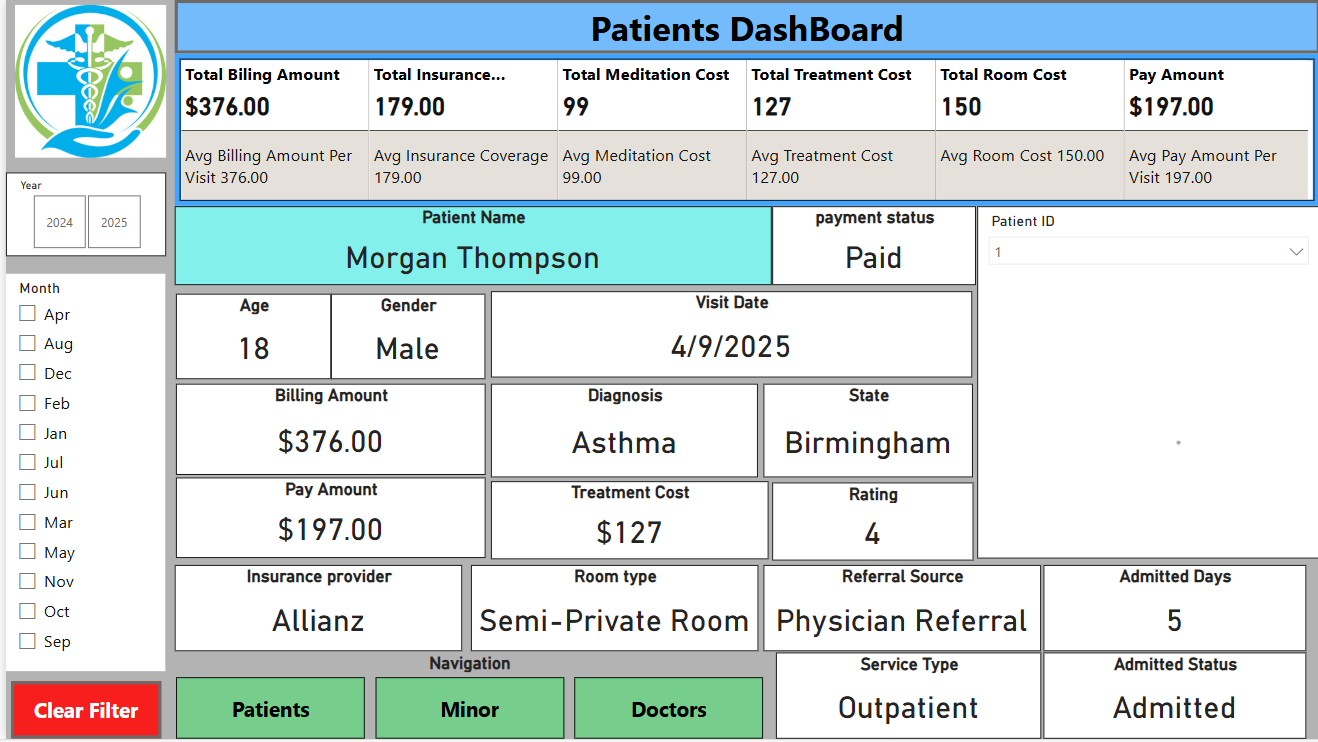

What the dashboard file says about the page in this screenshot:
{"tool":"powerbi","page":{"name":"Patients_details","canvas":[1280,720],"ordinal":3},"visuals":[{"type":"cardVisual","fields":{"Data":["Measure Calculation.TotalBilingAmount","Measure Calculation.TotalInsuranceCovered","Measure Calculation.TotalMeditationCost","Measure Calculation.TotalTreatmentCost","Measure Calculation.totalroomcost","Measure Calculation.Pay_Amount"]},"box":[164.4,52.1,1115.6,148.2],"z":0},{"type":"image","box":[0,0,165,158.8],"z":1000},{"type":"slicer","fields":{"Values":["Calender.Date.Variation.Date Hierarchy.Year"]},"box":[0,168.6,155.7,81.4],"z":2000},{"type":"slicer","fields":{"Values":["Calender.Short Month Name"]},"box":[0,266.3,154.9,387.4],"z":3000},{"type":"actionButton","box":[164.4,0,1115.6,52.1],"z":4000},{"type":"actionButton","box":[4.8,664.3,146.5,55.7],"z":5000},{"type":"slicer","fields":{"Values":["patients.Patient ID"]},"box":[945.7,201.4,334.3,342.9],"z":6000},{"type":"card","title":"Patient Name","fields":{"Values":["patients.Patient_Name"]},"box":[164.3,201.4,581.4,77.1],"z":7000},{"type":"card","title":"Room type","fields":{"Values":["Patients_details.patient_roomtype"]},"box":[452.9,550,280,84.3],"z":8000},{"type":"card","title":"Age","fields":{"Values":["Sum(patients.Age)"]},"box":[165.7,285.7,151.4,82.9],"z":9000},{"type":"card","title":"payment status","fields":{"Values":["Patients_details.patient_payment_status"]},"box":[747.1,201.4,198.6,77.1],"z":10000},{"type":"card","title":"Service Type","fields":{"Values":["Patients_details.patient_servicetype"]},"box":[750,635.7,258.6,84.3],"z":11000},{"type":"card","title":"Diagnosis","fields":{"Values":["Patients_details.patients_diagnosis"]},"box":[472.9,374.3,260,91.4],"z":12000},{"type":"card","title":"Admitted Status","fields":{"Values":["Min(visit.Admission Status)"]},"box":[1011.4,635.7,255.7,84.3],"z":13000},{"type":"card","title":"Referral Source","fields":{"Values":["Min(visit.Referral Source)"]},"box":[738.6,550,270,84.3],"z":14000},{"type":"card","title":"Insurance  provider","fields":{"Values":["Min(insurance.Insurance Provider)"]},"box":[164.3,550,280,84.3],"z":15000},{"type":"card","title":"Admitted Days","fields":{"Values":["Sum(visit.admitted Days)"]},"box":[1011.4,550,255.7,84.3],"z":16000},{"type":"card","title":"Pay Amount","fields":{"Values":["Measure Calculation.Pay_Amount"]},"box":[165.7,465.7,301.4,78.6],"z":17000},{"type":"card","title":"Billing Amount","fields":{"Values":["Measure Calculation.TotalBilingAmount"]},"box":[165.7,374.3,301.4,88.6],"z":18000},{"type":"card","title":"Rating","fields":{"Values":["Sum(patients.Rating)"]},"box":[747.1,470,195.7,75.7],"z":19000},{"type":"card","title":"State","fields":{"Values":["Min(cities.City)"]},"box":[738.6,374.3,204.3,91.4],"z":20000},{"type":"card","title":"Gender","fields":{"Values":["Min(patients.Gender)"]},"box":[317.1,285.7,150,82.9],"z":21000},{"type":"pageNavigator","title":"Navigation","box":[165.7,635.7,572.9,84.3],"z":22000},{"type":"card","title":"Treatment Cost","fields":{"Values":["Sum(visit.Treatment Cost)"]},"box":[472.9,468.6,270,75.7],"z":23000},{"type":"card","title":"Visit Date","fields":{"Values":["Min(visit.Date of Visit)"]},"box":[472.9,284.3,468.6,84.3],"z":24000}]}

Visuals, with their boxes in screenshot pixels (x1, y1, x2, y2), scaled from the page's 1280x720 canvas onto the 1318x742 screenshot:
cardVisual - Measure Calculation.TotalBilingAmount x Measure Calculation.TotalInsuranceCovered: {"left": 169, "top": 54, "right": 1317, "bottom": 206}
image: {"left": 0, "top": 0, "right": 170, "bottom": 164}
slicer - Calender.Date.Variation.Date Hierarchy.Year: {"left": 0, "top": 174, "right": 160, "bottom": 258}
slicer - Calender.Short Month Name: {"left": 0, "top": 274, "right": 159, "bottom": 674}
actionButton: {"left": 169, "top": 0, "right": 1317, "bottom": 54}
actionButton: {"left": 5, "top": 685, "right": 156, "bottom": 741}
slicer - patients.Patient ID: {"left": 974, "top": 208, "right": 1317, "bottom": 561}
"Patient Name" card: {"left": 169, "top": 208, "right": 768, "bottom": 287}
"Room type" card: {"left": 466, "top": 567, "right": 755, "bottom": 654}
"Age" card: {"left": 171, "top": 294, "right": 327, "bottom": 380}
"payment status" card: {"left": 769, "top": 208, "right": 974, "bottom": 287}
"Service Type" card: {"left": 772, "top": 655, "right": 1039, "bottom": 741}
"Diagnosis" card: {"left": 487, "top": 386, "right": 755, "bottom": 480}
"Admitted Status" card: {"left": 1041, "top": 655, "right": 1305, "bottom": 741}
"Referral Source" card: {"left": 761, "top": 567, "right": 1039, "bottom": 654}
"Insurance  provider" card: {"left": 169, "top": 567, "right": 457, "bottom": 654}
"Admitted Days" card: {"left": 1041, "top": 567, "right": 1305, "bottom": 654}
"Pay Amount" card: {"left": 171, "top": 480, "right": 481, "bottom": 561}
"Billing Amount" card: {"left": 171, "top": 386, "right": 481, "bottom": 477}
"Rating" card: {"left": 769, "top": 484, "right": 971, "bottom": 562}
"State" card: {"left": 761, "top": 386, "right": 971, "bottom": 480}
"Gender" card: {"left": 327, "top": 294, "right": 481, "bottom": 380}
"Navigation" pageNavigator: {"left": 171, "top": 655, "right": 761, "bottom": 741}
"Treatment Cost" card: {"left": 487, "top": 483, "right": 765, "bottom": 561}
"Visit Date" card: {"left": 487, "top": 293, "right": 969, "bottom": 380}
